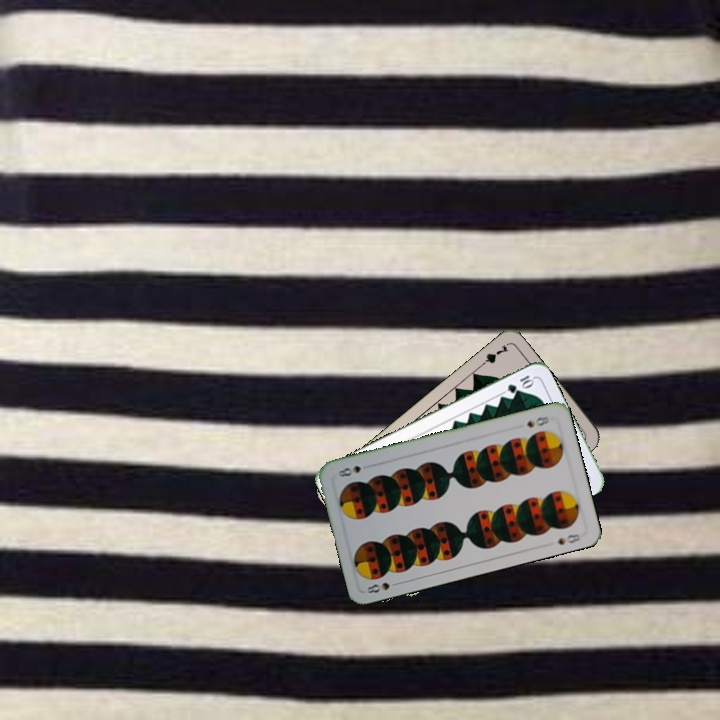G10: (503, 371, 536, 396)
G7: (475, 341, 511, 371)
S8: (362, 578, 403, 596), (522, 412, 551, 430)
